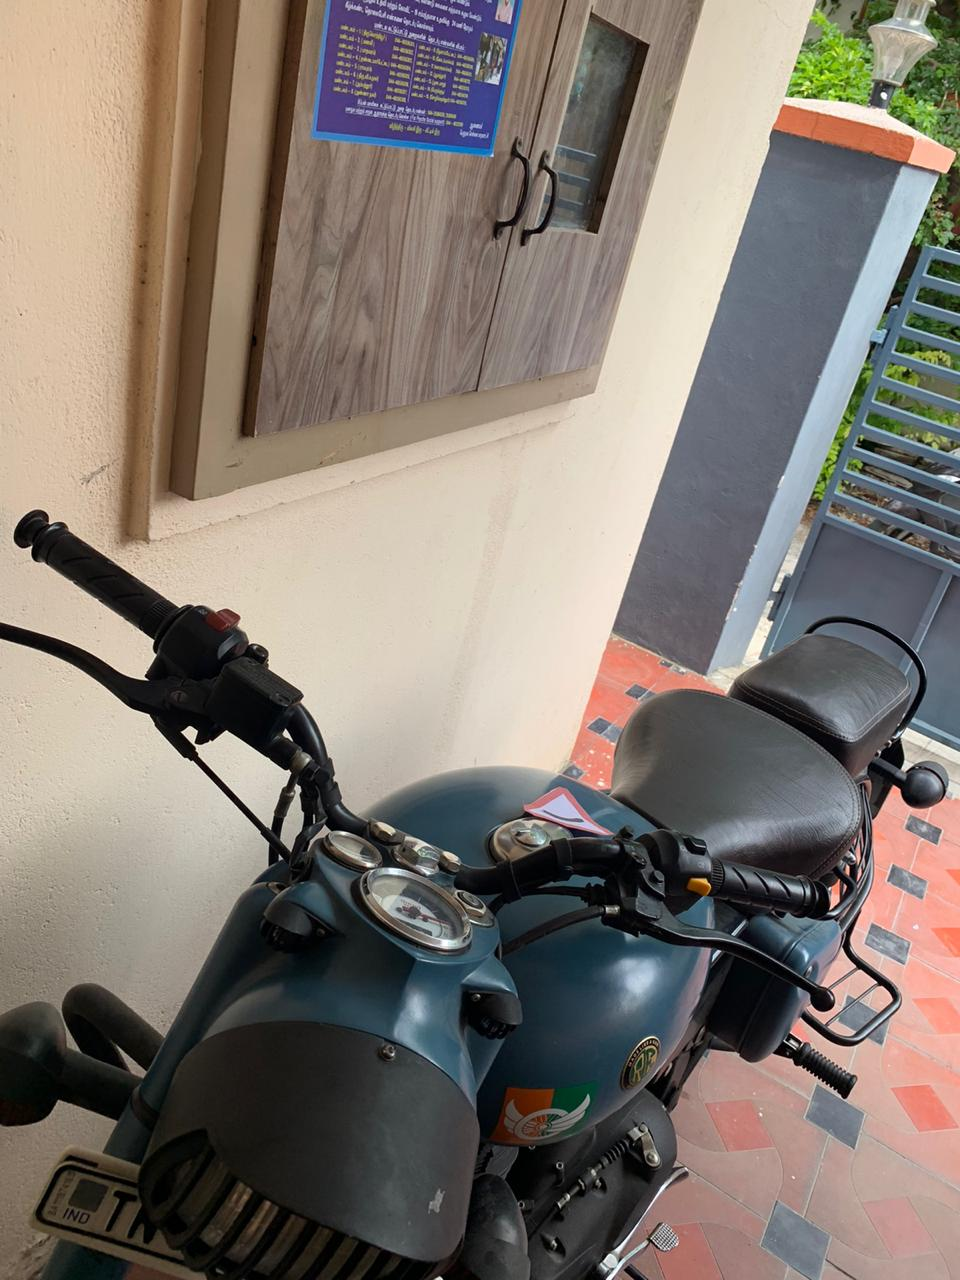UNEVEN ROAD: (505, 763, 636, 857)
